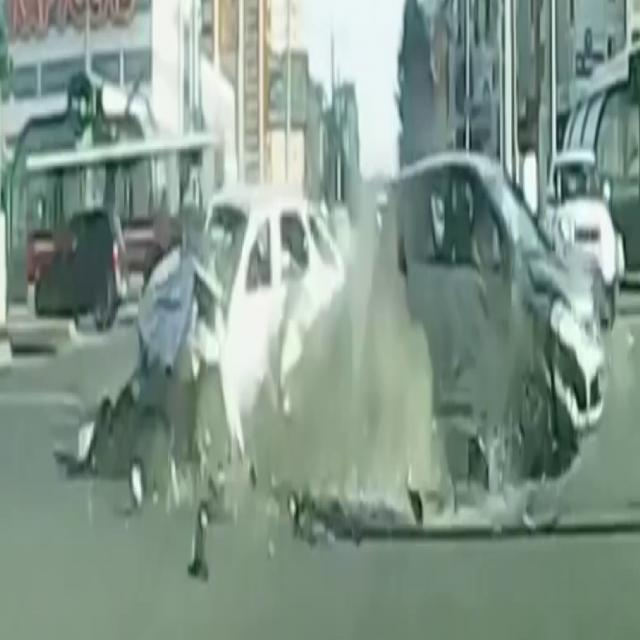accident: (146, 143, 613, 534)
